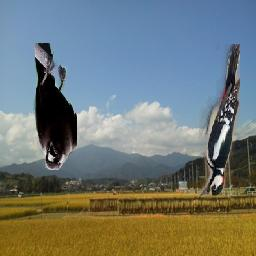Crow: (33, 44, 77, 171)
Woodpecker: (200, 45, 241, 198)
